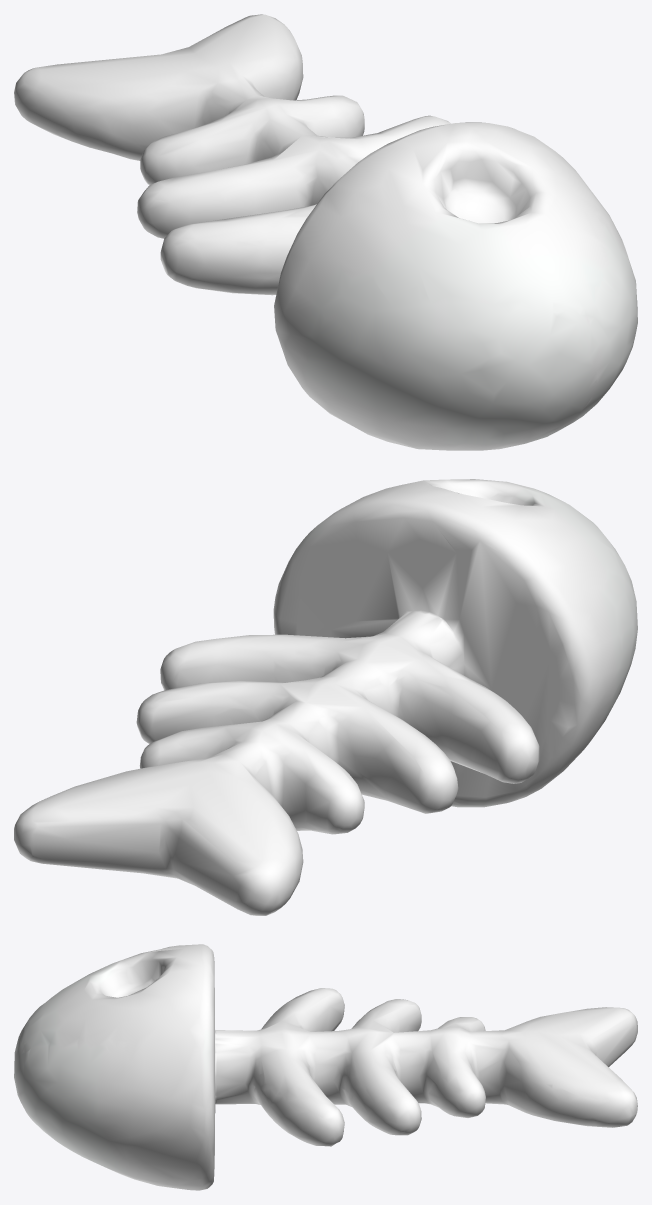
The model's file is fishbone-diet.glb.
The picture shows the model from 3 angles, top to bottom: view 1: azimuth 30°, elevation 25°; view 2: azimuth 150°, elevation 25°; view 3: azimuth 270°, elevation 25°; orthographic projection. The views are drawn at different scales.
Visible parts, largest first — view 1: Mesh_0; view 2: Mesh_0; view 3: Mesh_0.
Part boxes in pixels (x1,y1,x2,y2): Mesh_0: [14, 14, 637, 450]; Mesh_0: [14, 479, 637, 915]; Mesh_0: [14, 944, 637, 1190].
Size of the model in its own units: 0.9552 by 0.7356 by 1.9.
1 material, 1 textured.
